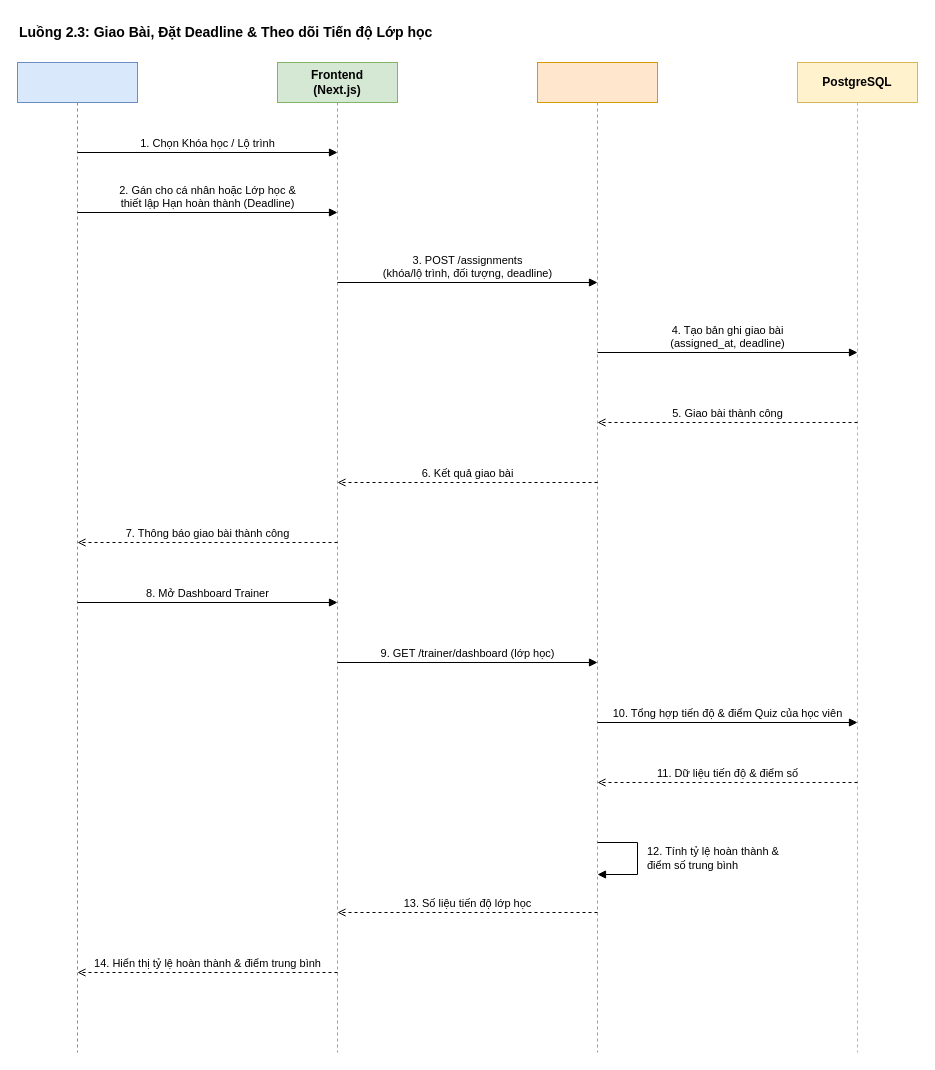
The diagram is 935 pixels wide and 1070 high, and some of its shapes have lost their labels. Here are the shapes that lost their labels. From the top down, the box of each, then its label:
(16, 62, 138, 1052): Trainer (Giảng viên / Mentor)
(536, 62, 658, 1052): Backend (NestJS)
